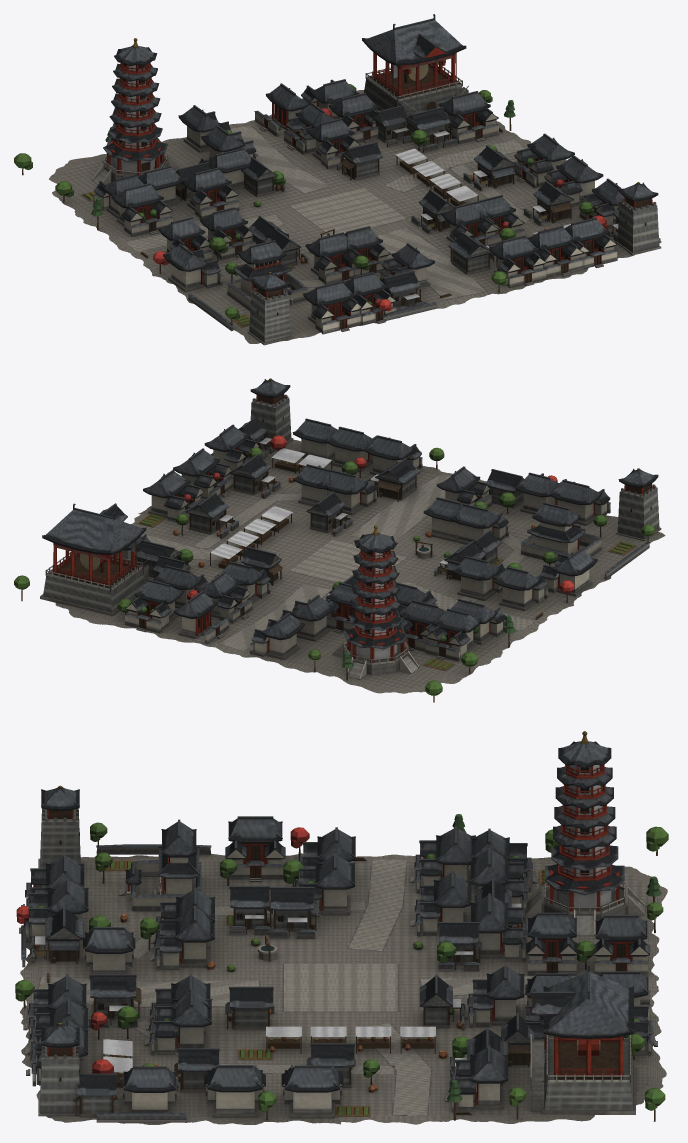
The model's file is kingdoms-town-big-a-sinic.glb.
The picture shows the model from 3 angles, top to bottom: view 1: azimuth 30°, elevation 25°; view 2: azimuth 150°, elevation 25°; view 3: azimuth 270°, elevation 25°; orthographic projection. The views are drawn at different scales.
Visible parts, largest first — view 1: LOD0; view 2: LOD0; view 3: LOD0.
Boxes of the visible parts, left/top/right/bottom form: LOD0: left=14, top=14, right=661, bottom=345; LOD0: left=14, top=378, right=665, bottom=702; LOD0: left=15, top=731, right=668, bottom=1124.
Size of what is drawn, in the model's own units: 8.05 by 2.46 by 8.12.
3 materials, 3 textured.
